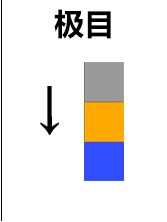arrow: (28, 75, 70, 143)
